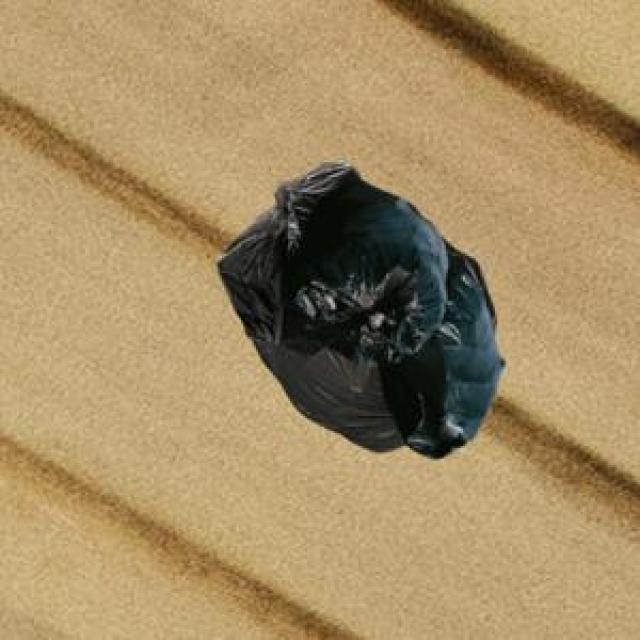waste: (219, 162, 502, 457)
